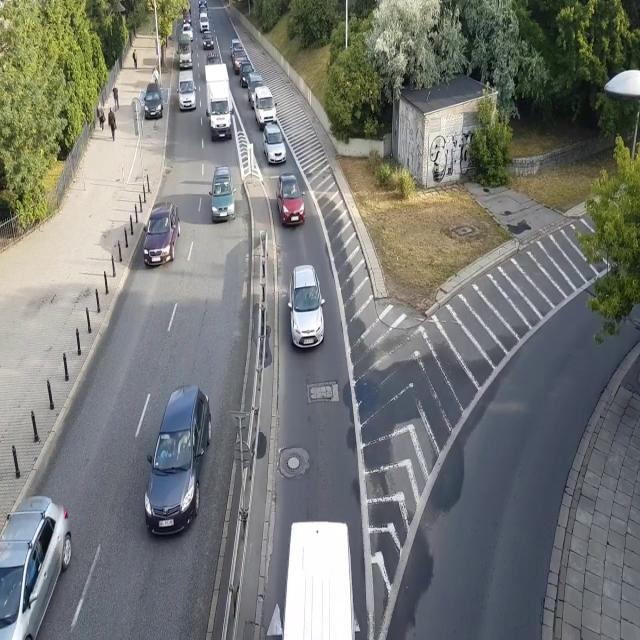car: (142, 380, 212, 537), (0, 493, 73, 640), (285, 262, 325, 351), (141, 200, 181, 268), (276, 173, 307, 226), (208, 165, 236, 223), (262, 125, 287, 167), (143, 83, 163, 120), (240, 61, 253, 89), (233, 49, 247, 74), (201, 30, 214, 50), (230, 38, 242, 56), (181, 24, 194, 40), (206, 51, 220, 65), (182, 11, 192, 26), (198, 5, 208, 18), (182, 0, 190, 12), (198, 0, 207, 6)
truck: (205, 64, 234, 141)
van: (281, 519, 355, 640), (254, 86, 277, 130), (176, 70, 196, 111), (176, 33, 194, 70), (247, 72, 264, 109), (198, 13, 210, 32)
